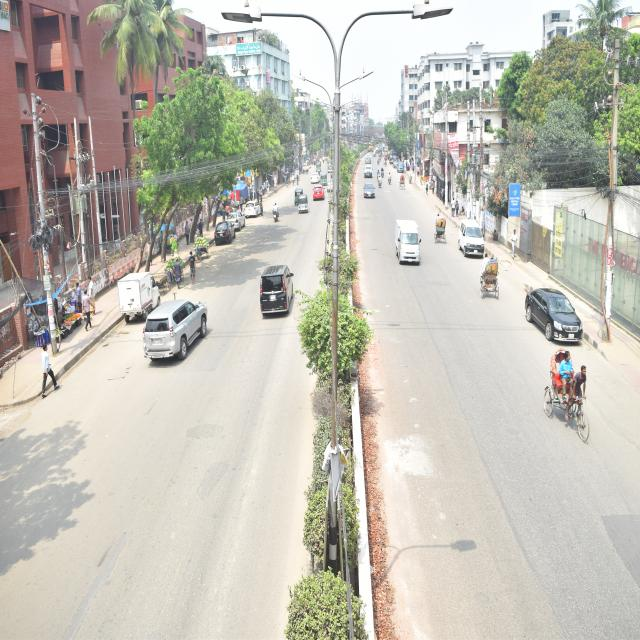car: (144, 296, 213, 365), (523, 278, 589, 344), (210, 221, 238, 245), (241, 198, 264, 218), (311, 183, 327, 210), (361, 181, 377, 202), (362, 161, 376, 179)
microbus: (260, 260, 298, 319), (458, 216, 488, 260)
motorbike: (271, 198, 281, 230)
pickup-van: (114, 268, 164, 323), (394, 216, 422, 266)
